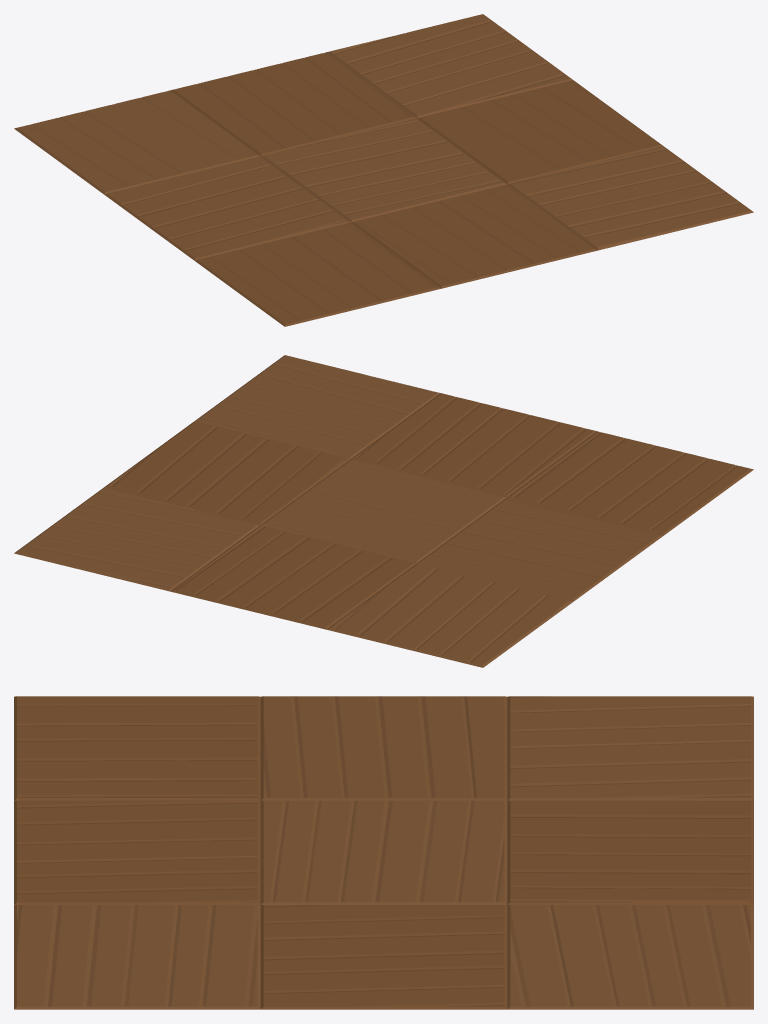
The model's file is Wood_Floor_Module_01_01.glb.
3 renders of one model, top to bottom at view 1: azimuth 30°, elevation 25°; view 2: azimuth 150°, elevation 25°; view 3: azimuth 270°, elevation 25°, orthographic. The views are drawn at different scales.
Parts seen in each view (by area): view 1: Wood_Floor_Module_01_01; view 2: Wood_Floor_Module_01_01; view 3: Wood_Floor_Module_01_01.
Boxes of the visible parts, <box> form: Wood_Floor_Module_01_01: <box>14,14,753,326</box>; Wood_Floor_Module_01_01: <box>14,355,753,667</box>; Wood_Floor_Module_01_01: <box>14,696,753,1009</box>.
Bounding box in the file's own units: 4.74 × 0.012 × 4.74.
